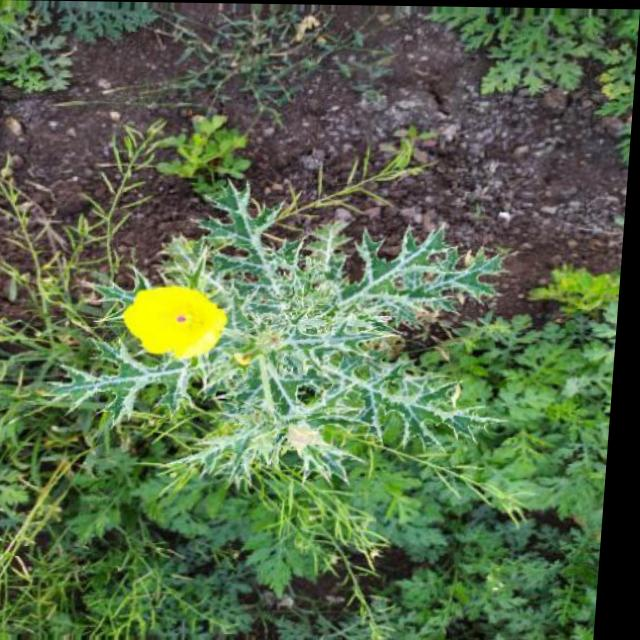weed: (0, 181, 603, 617)
